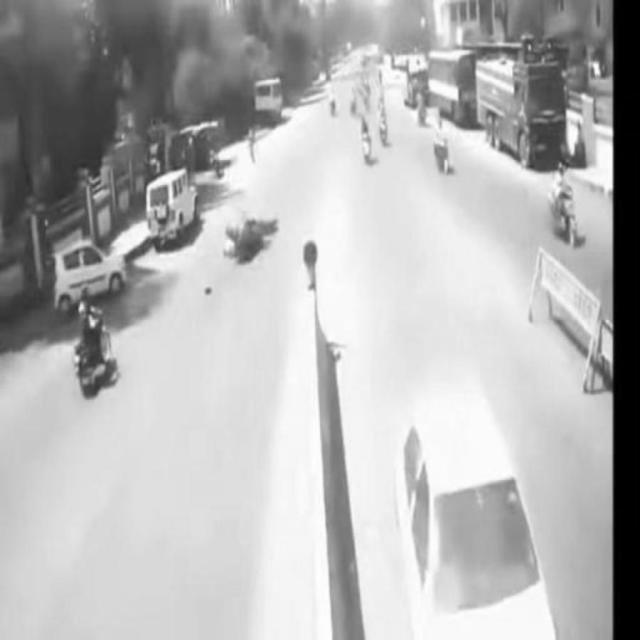vehicle: (396, 397, 561, 640), (50, 241, 128, 318), (73, 285, 113, 389), (149, 169, 203, 241), (548, 164, 586, 245)
